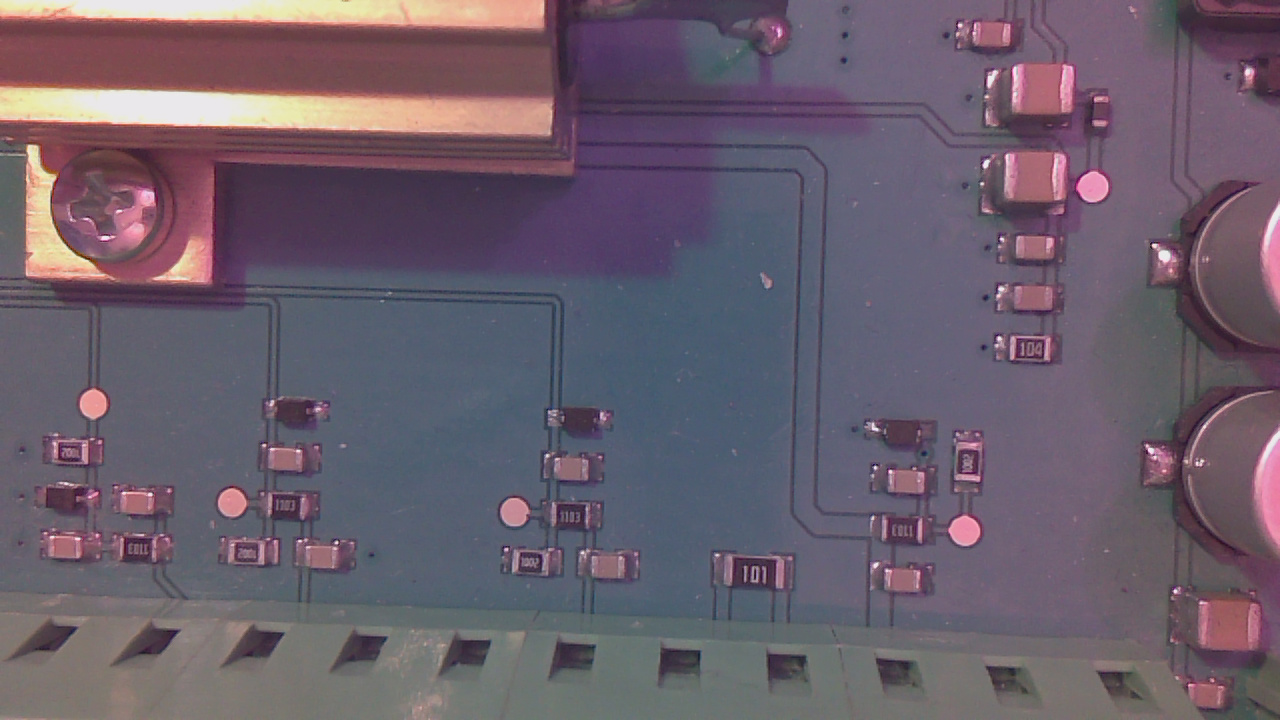Condensator: (1174, 589, 1267, 657), (1007, 151, 1071, 212), (1010, 67, 1079, 120), (1189, 679, 1239, 718), (972, 24, 1024, 55), (890, 469, 939, 499), (307, 546, 349, 578), (1016, 288, 1059, 319), (270, 450, 332, 470), (1020, 240, 1062, 269), (593, 556, 636, 584), (559, 459, 601, 487), (890, 570, 929, 599), (123, 494, 162, 522), (53, 538, 92, 565), (1096, 98, 1113, 138)
Diode: (270, 399, 331, 434), (558, 410, 613, 442), (874, 423, 932, 453), (45, 488, 97, 517)
Resistor: (729, 556, 793, 594), (959, 439, 988, 491), (1011, 338, 1057, 369), (555, 508, 605, 535), (122, 538, 165, 569), (885, 522, 932, 549), (273, 494, 315, 523), (517, 552, 560, 580), (56, 444, 95, 474), (229, 545, 275, 570)
